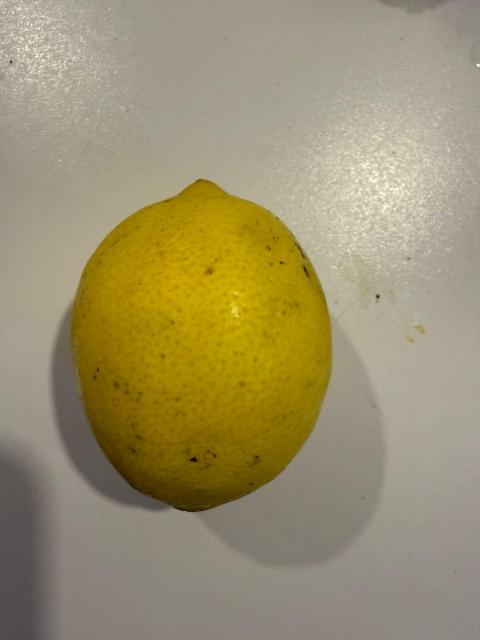Organik: (63, 176, 331, 508)
